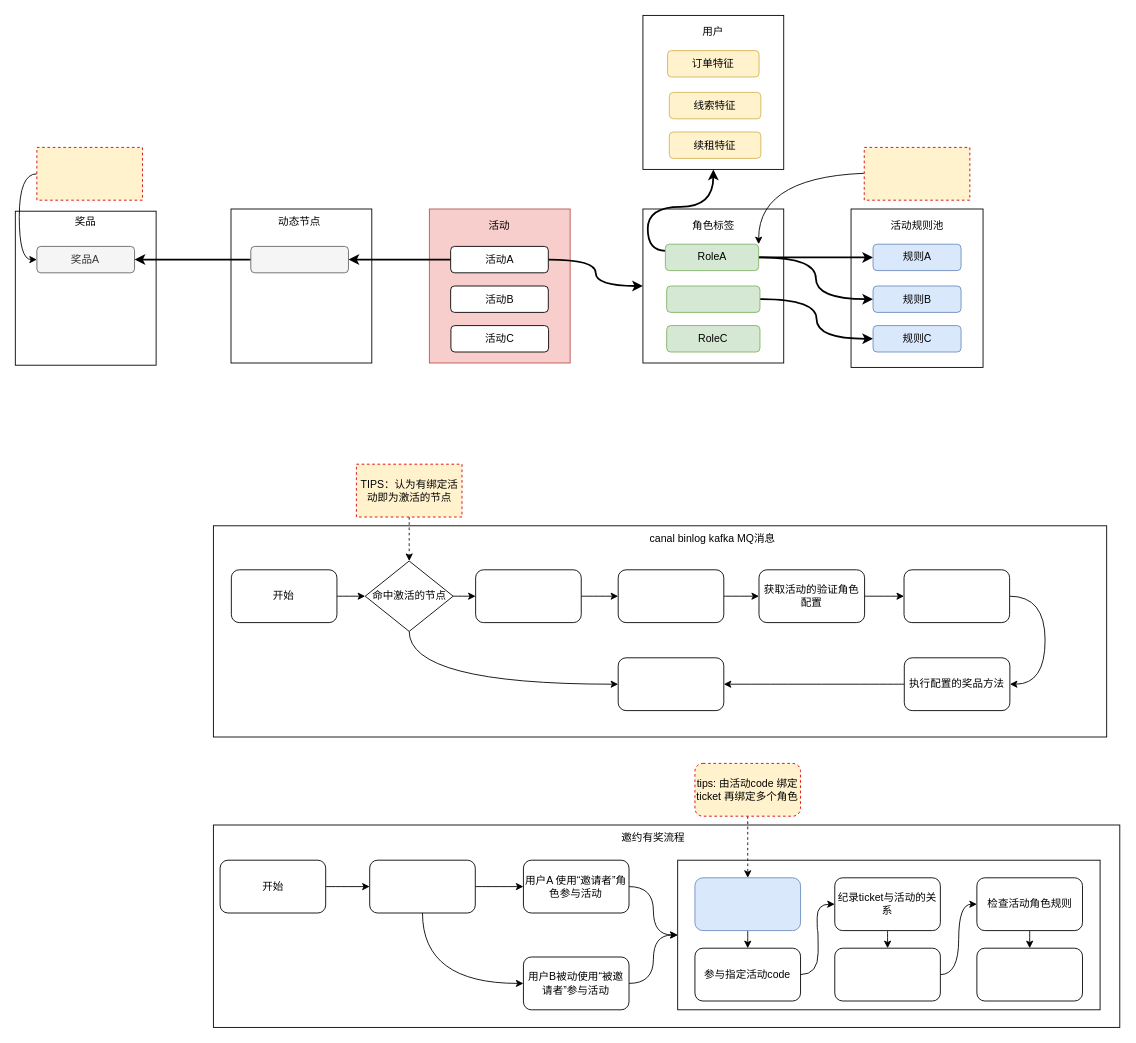
This 1136x1043 diagram has some shape labels left out. The shapes that lost their labels are listed below. From the top down, each one's box as (x1, y1, x2, y2) in pixels, then its label:
(36, 147, 142, 200): TIPS：每个奖品都需要重写 accept / complete / fail 方法
(863, 147, 970, 200): TIPS：标记由RoleA作为节点验证条件
(250, 246, 348, 273): 节点A
(666, 285, 760, 312): RoleB
(475, 569, 581, 623): 根据节点提取用户特征
(617, 569, 724, 623): 获取所有绑定了节点的活动
(903, 569, 1010, 623): 根据【用户特征】+ 【活动】+【角色】获取参与纪录
(617, 657, 724, 711): 结束
(369, 859, 475, 913): 用户A 邀请 用户B
(694, 877, 801, 931): 生成参与活动的唯一ticket
(834, 947, 940, 1001): 收集用户特征
(976, 947, 1082, 1001): 参与纪录留痕
